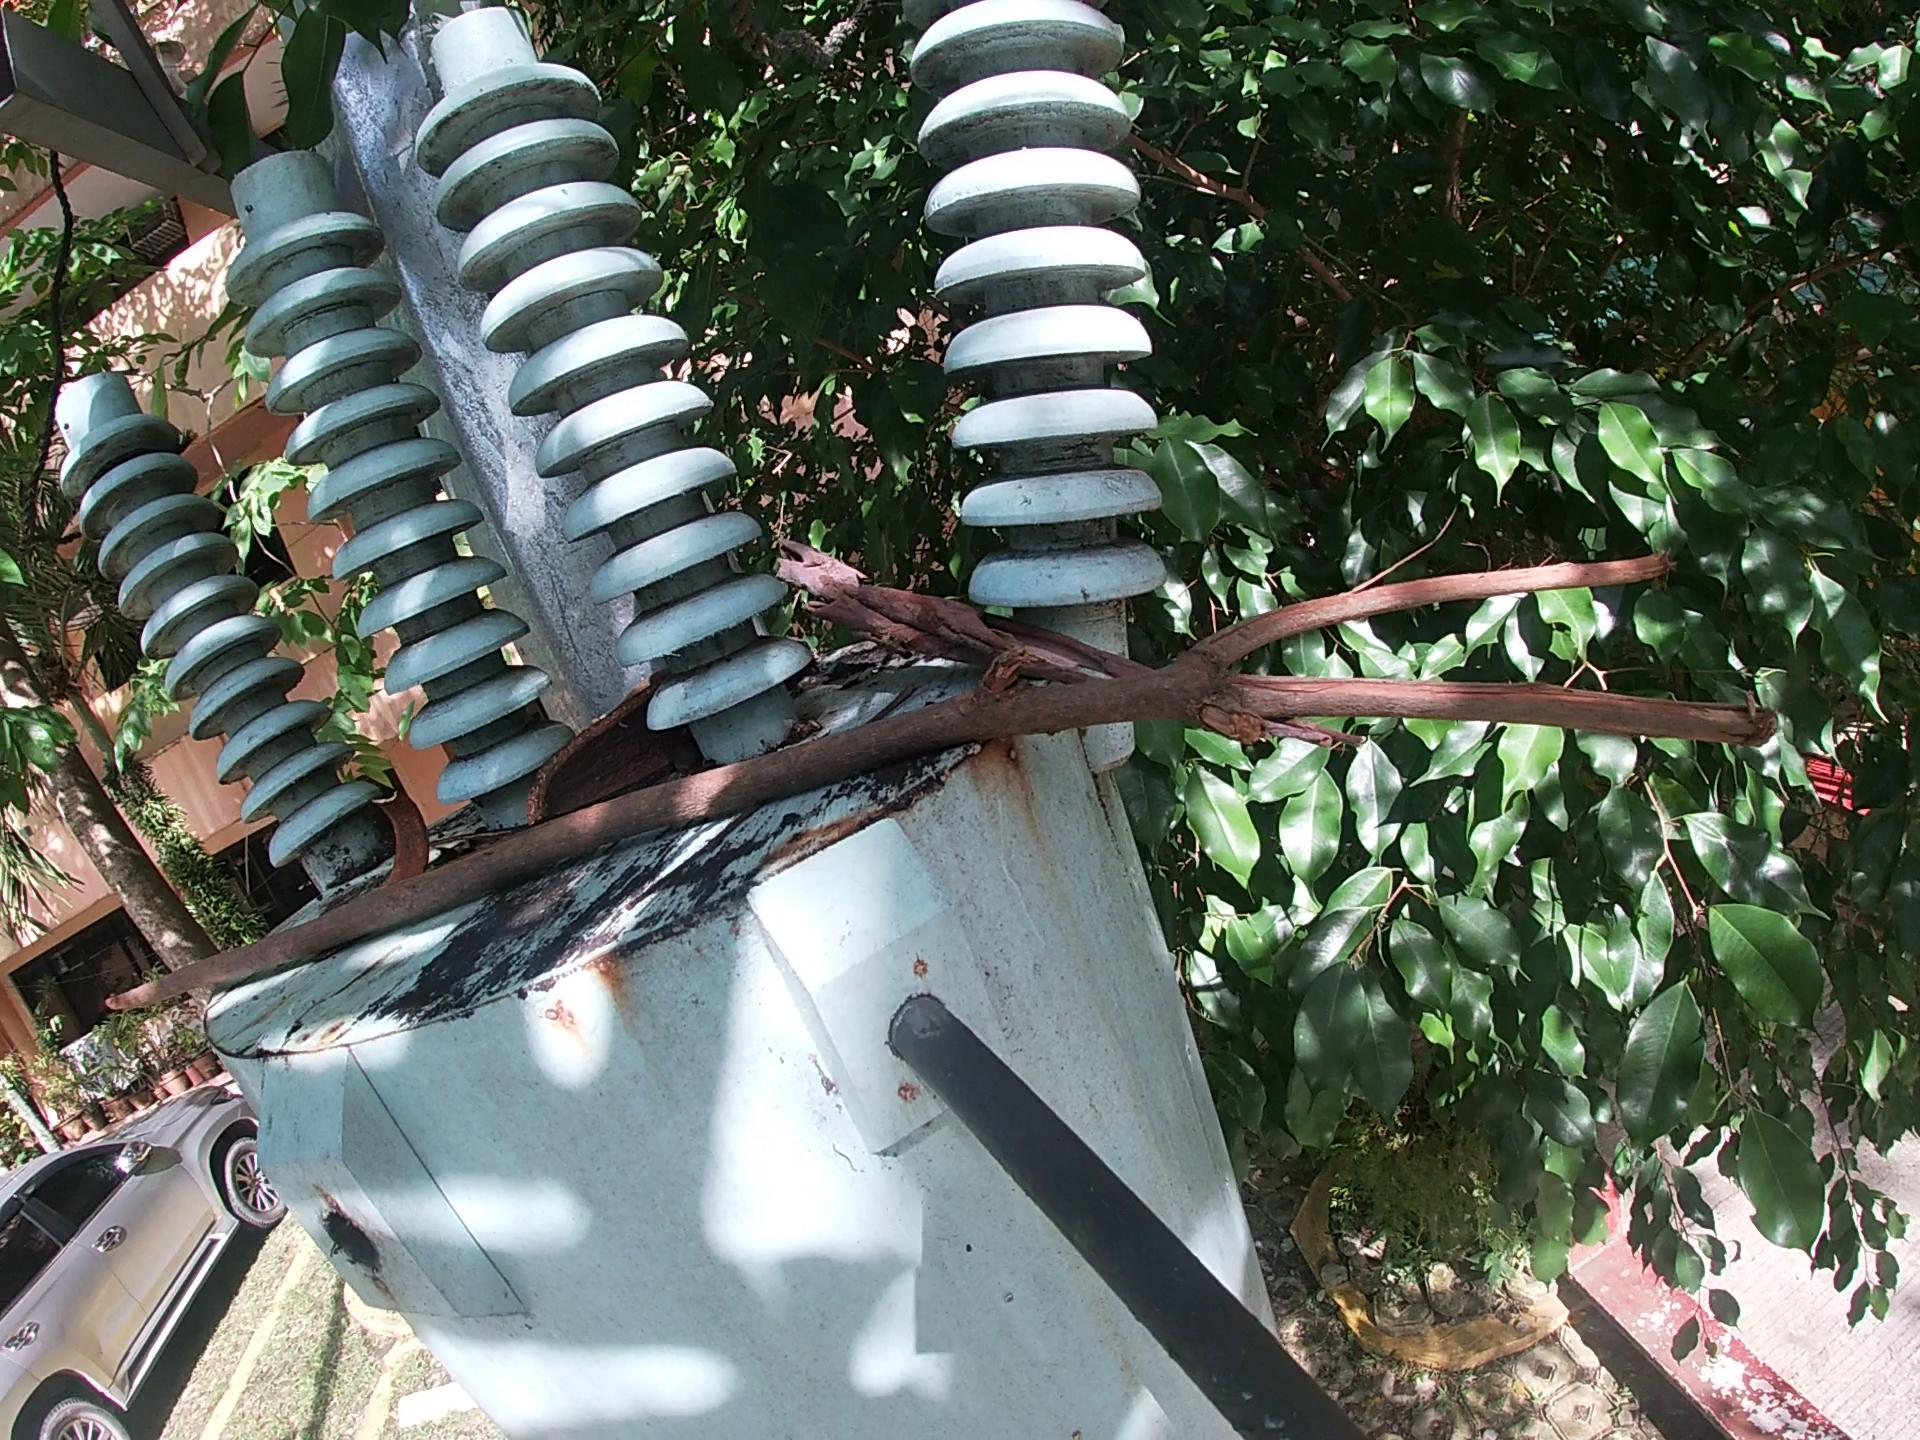mahogany fruit: (520, 669, 686, 830), (363, 788, 434, 895)
tree branch: (97, 542, 1798, 1035), (763, 526, 1388, 765)
